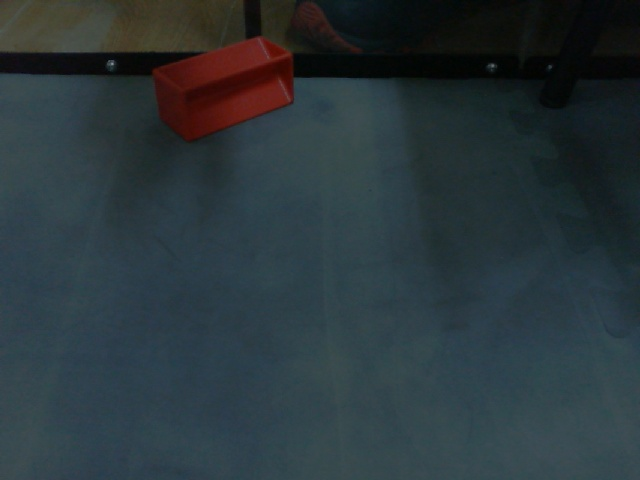RedSample: (151, 34, 297, 143)
